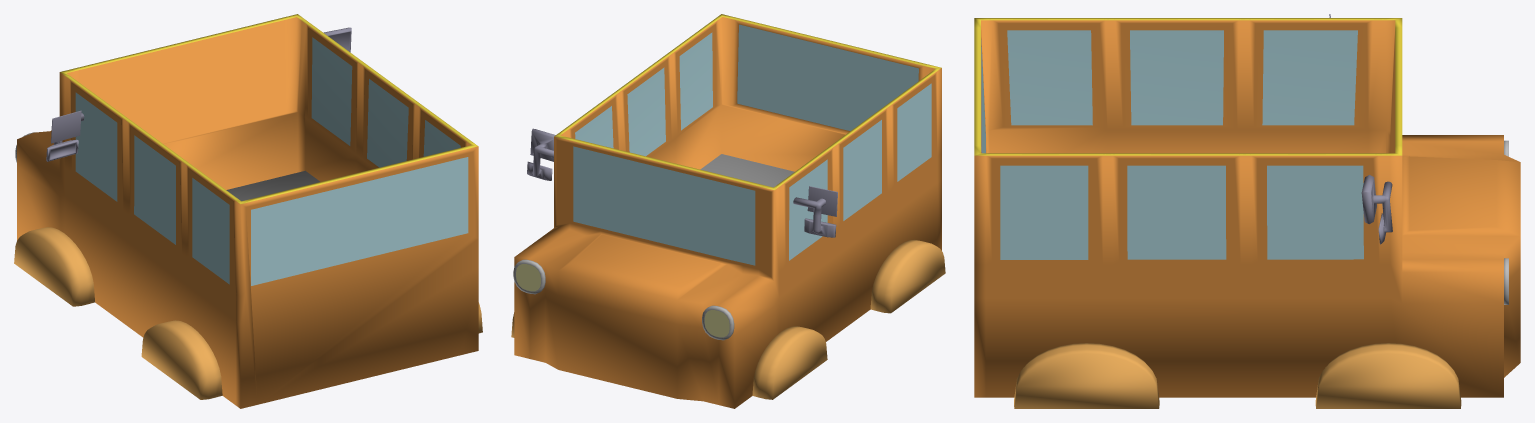
The model's file is fullbus.fbx.
3 renders of one model, left to right at view 1: azimuth 30°, elevation 25°; view 2: azimuth 150°, elevation 25°; view 3: azimuth 270°, elevation 25°, orthographic. The views are drawn at different scales.
Visible parts, largest first — view 1: Cube.014; view 2: Cube.014; view 3: Cube.014.
Boxes of the visible parts, bbox=[...] form: Cube.014: bbox=[14, 14, 482, 408]; Cube.014: bbox=[511, 14, 945, 408]; Cube.014: bbox=[974, 14, 1520, 408].
Bounding box in the file's own units: 352 × 217 × 445.
